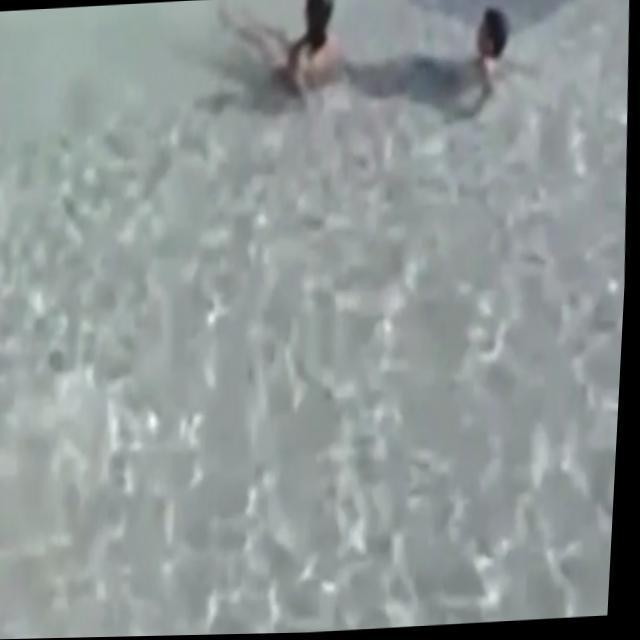swimming: (385, 1, 569, 139), (213, 3, 373, 119)
